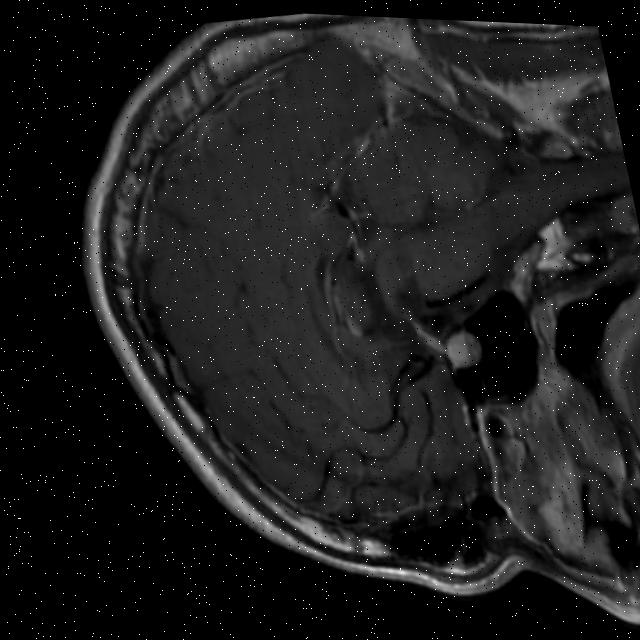Pituitary: (422, 325, 489, 375)
